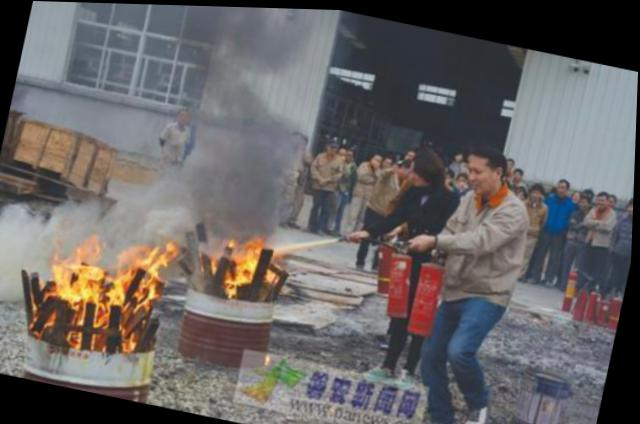fire: (46, 257, 105, 304), (230, 232, 261, 281), (140, 237, 179, 275), (106, 264, 135, 307), (93, 300, 112, 327), (121, 329, 142, 352), (222, 273, 240, 295), (65, 326, 83, 347), (74, 299, 87, 323)
